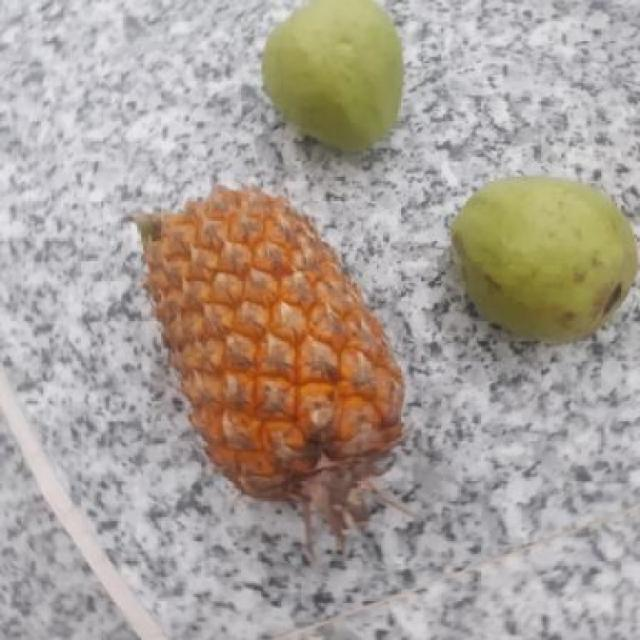guava: (442, 178, 633, 334), (256, 2, 407, 147)
pineapple: (122, 181, 400, 504)
